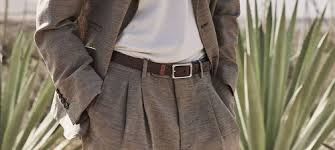F_belt: (101, 42, 227, 87)
